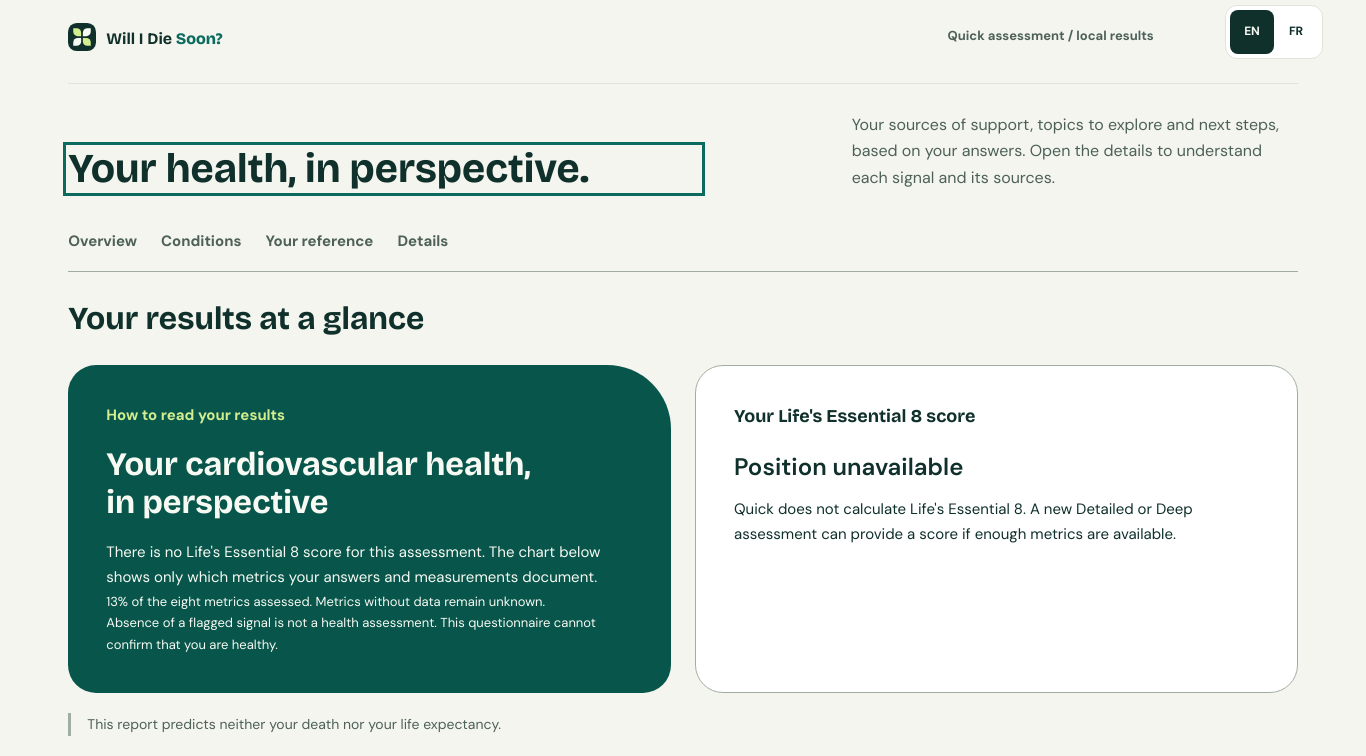
Test: one missing answer shows every result it could still produce, without an orientation
Click the button with aria-label "Français".
click(1296, 32)  # box [1274,10,1318,54]
(page scrolled)
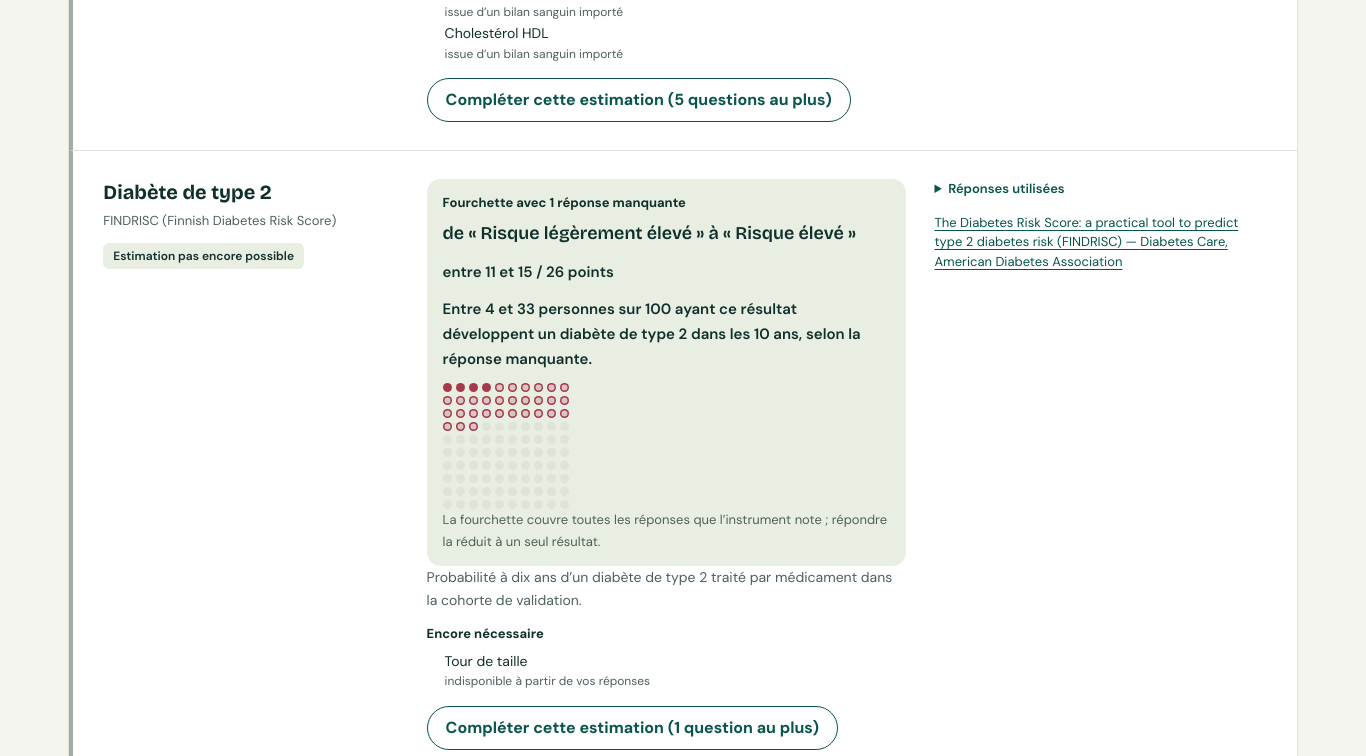
Result: the element that starts with "Fourchette avec 1 réponse manquante" shows "Entre 4 et 33 personnes sur 100 ayant ce résultat développent un diabète de type 2 dans les 10 ans, selon la réponse manquante." at [443,299,861,369]
